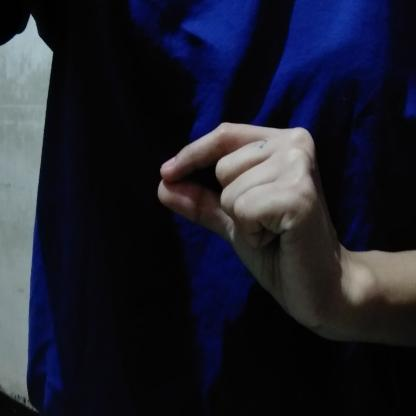nothing: (151, 108, 359, 350)
